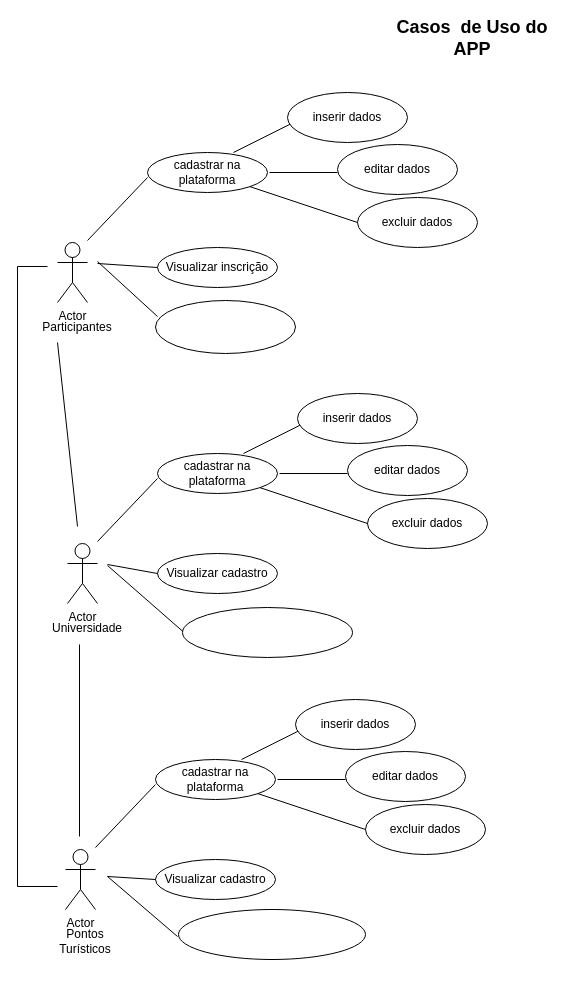
This 575x983 diagram has some shape labels left out. The shapes that lost their labels are listed below. From the top down, each one's centre as x and y in pixels, then its label:
point 225,327: Visualizar participantes Itinerantes
point 267,632: Acompanhar Universidades que estão com inscrição
point 272,934: Visualizar Pontos Turísticos Cadastrados
